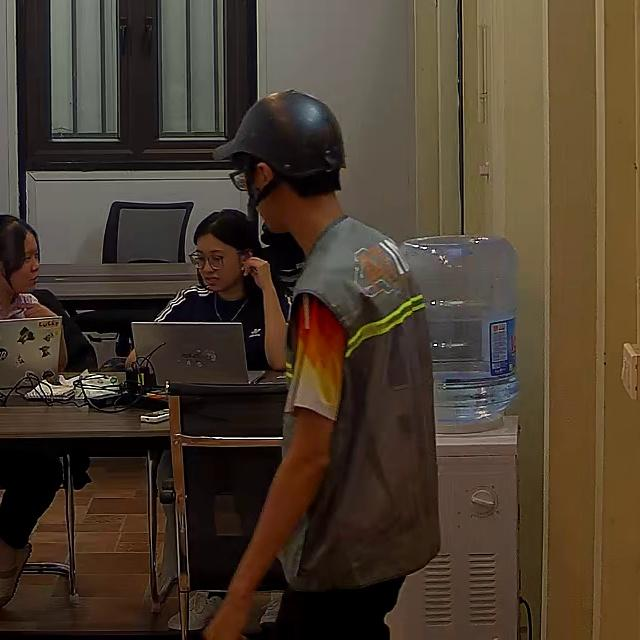helmet: (210, 87, 352, 184)
no_helmet: (192, 206, 264, 262), (1, 216, 46, 278)
none: (151, 283, 288, 372)
vest: (279, 220, 446, 588)
